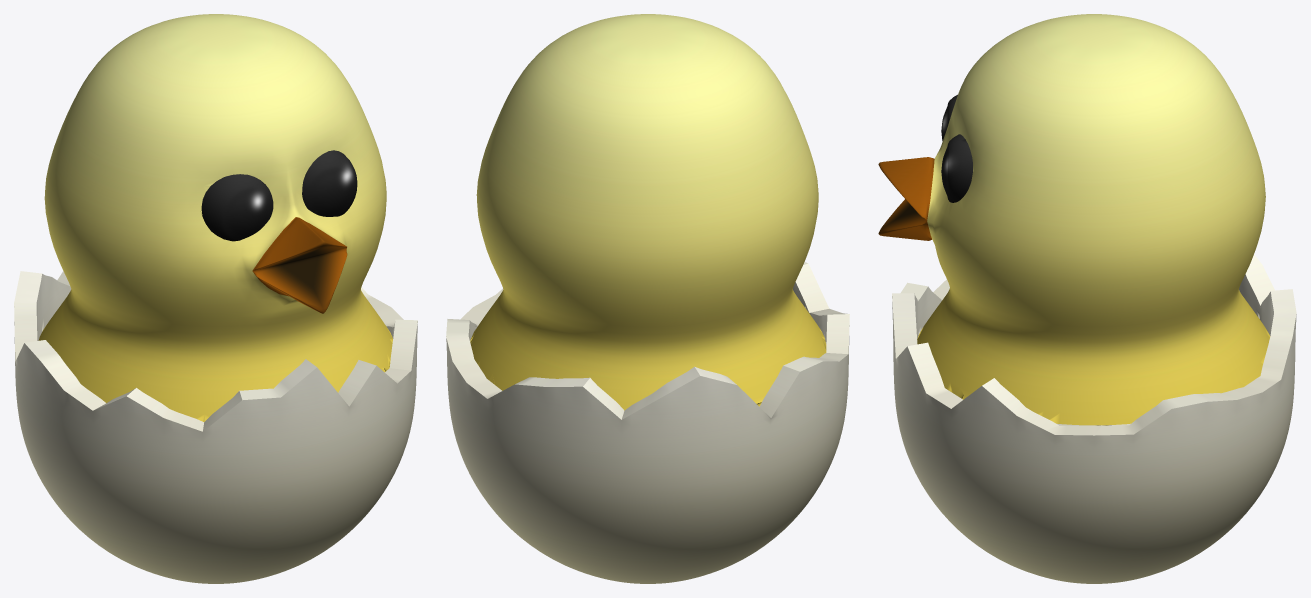
Rendered from chick.glb.
The picture shows the model from 3 angles, left to right: view 1: azimuth 30°, elevation 25°; view 2: azimuth 150°, elevation 25°; view 3: azimuth 270°, elevation 25°; orthographic projection.
Parts seen in each view (by area): view 1: node_id41; view 2: node_id41; view 3: node_id41.
Part boxes in pixels (<box>): node_id41: <box>14,14,417,583</box>; node_id41: <box>446,14,849,583</box>; node_id41: <box>878,14,1296,583</box>.
Size of the model in its own units: 0.3634 by 0.512 by 0.3757.
Materials: 1 (1 with a texture image).
